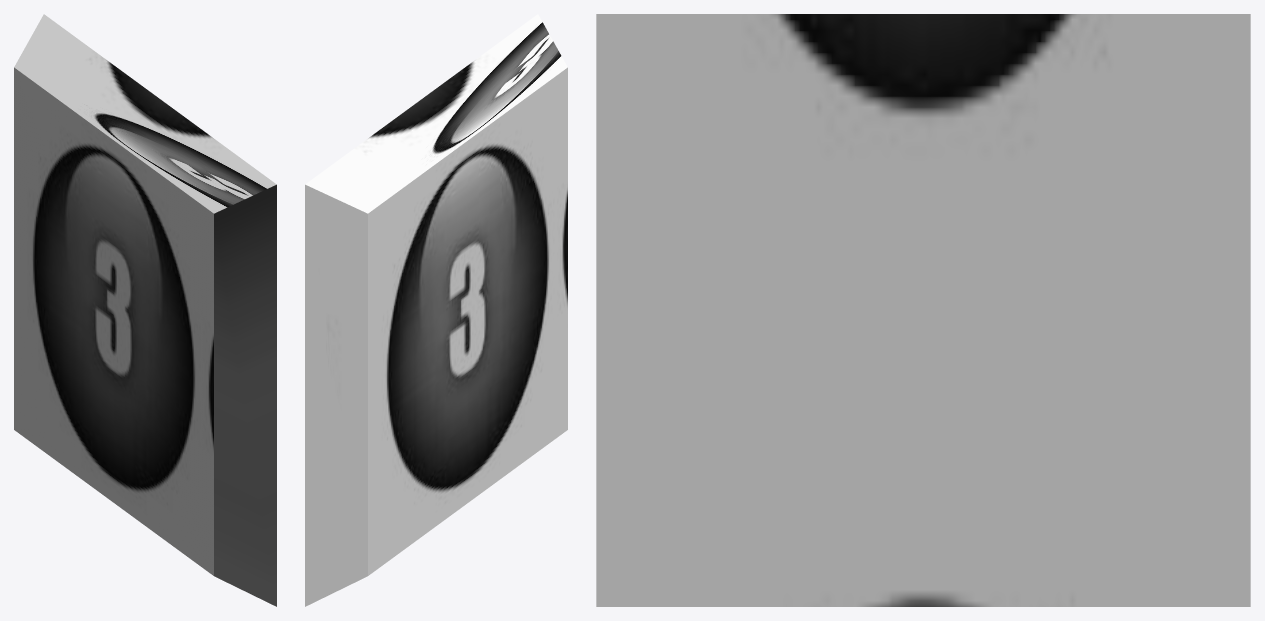
3 renders of one model, left to right at view 1: azimuth 30°, elevation 25°; view 2: azimuth 150°, elevation 25°; view 3: azimuth 270°, elevation 25°, orthographic. The views are drawn at different scales.
Visible parts, largest first — view 1: Cubo.039; view 2: Cubo.039; view 3: Cubo.039.
Part boxes in pixels (<box>): Cubo.039: <box>14,14,276,606</box>; Cubo.039: <box>305,14,567,606</box>; Cubo.039: <box>596,14,1250,606</box>.
Bounding box in the file's own units: 0.0153 × 0.1334 × 0.1333.
1 material, 1 textured.
